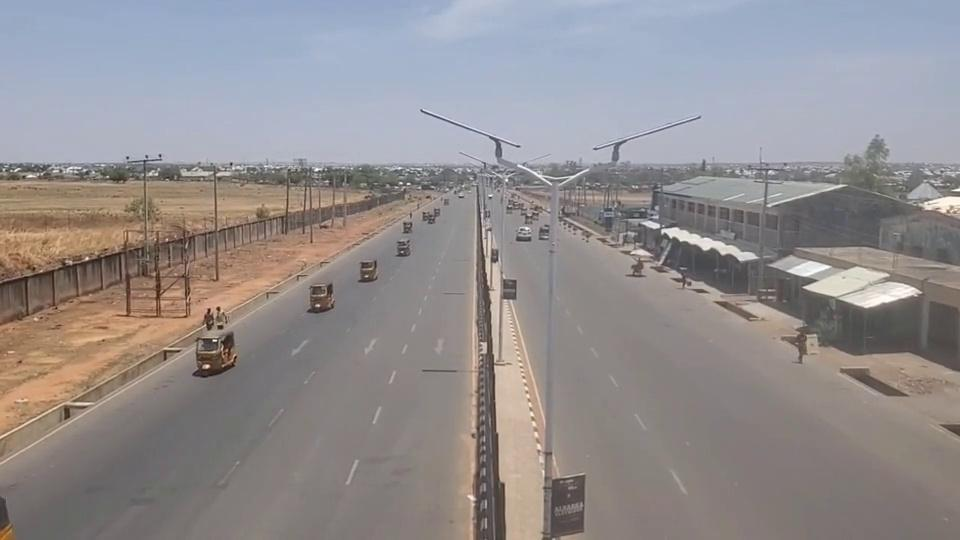car: (516, 225, 533, 241)
keke: (194, 330, 237, 373), (308, 282, 334, 311), (359, 259, 378, 281), (396, 238, 411, 256), (538, 223, 550, 239), (402, 220, 413, 233), (524, 212, 534, 223), (530, 210, 539, 220), (506, 204, 514, 213)
